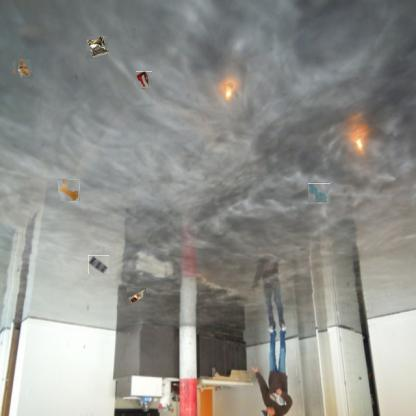dirty: (86, 36, 108, 59), (88, 255, 109, 274), (126, 287, 146, 305), (14, 60, 32, 78), (136, 71, 152, 88)
liquid: (58, 180, 80, 202), (309, 183, 330, 203)
